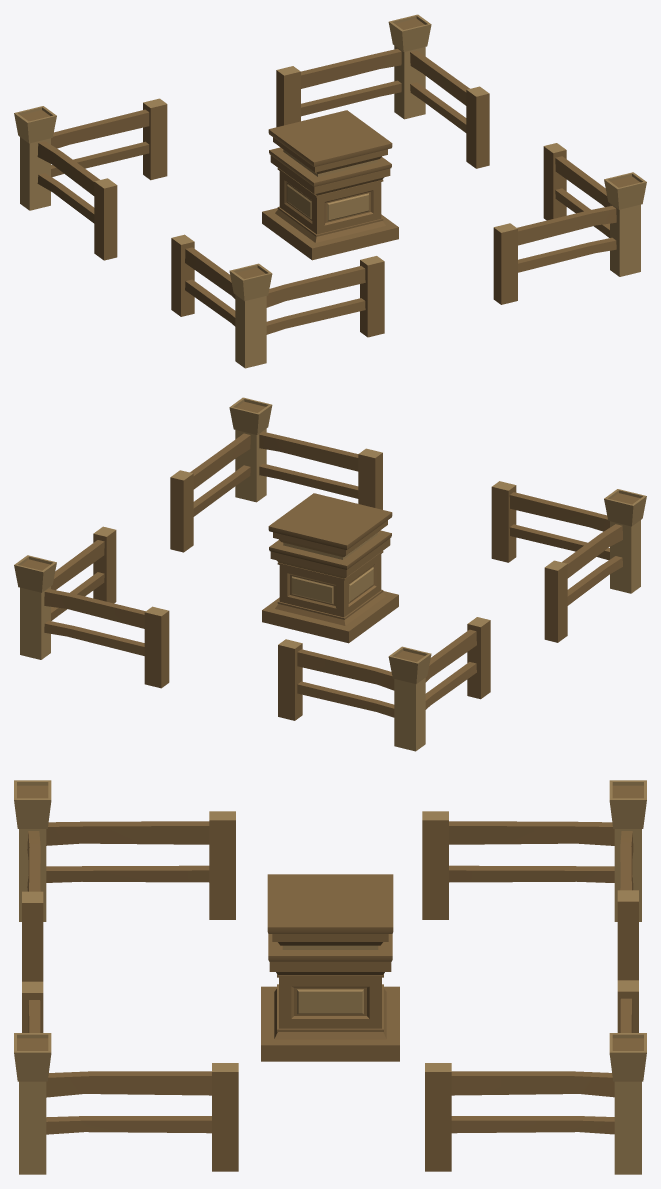
Rendered from Town Center.glb.
3 views of the same model, one above another, from view 1: azimuth 30°, elevation 25°; view 2: azimuth 150°, elevation 25°; view 3: azimuth 270°, elevation 25° (orthographic). The views are drawn at different scales.
Parts seen in each view (by area): view 1: TownCenter_FirstAge_Level1; view 2: TownCenter_FirstAge_Level1; view 3: TownCenter_FirstAge_Level1.
Boxes of the visible parts, bbox=[...] form: TownCenter_FirstAge_Level1: bbox=[14, 14, 646, 368]; TownCenter_FirstAge_Level1: bbox=[14, 397, 646, 751]; TownCenter_FirstAge_Level1: bbox=[14, 780, 646, 1174].
Size of the model in its own units: 1.26 by 0.3033 by 1.24.
